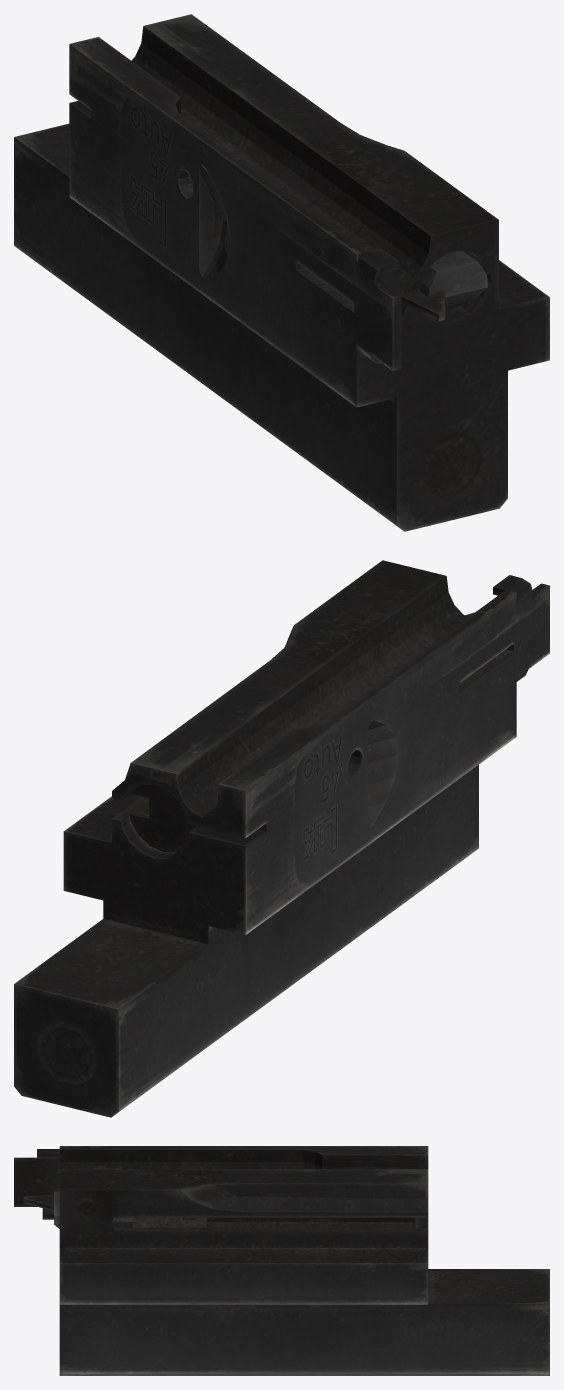
3 views of the same model, one above another, from view 1: azimuth 30°, elevation 25°; view 2: azimuth 150°, elevation 25°; view 3: azimuth 270°, elevation 25° (orthographic). The views are drawn at different scales.
Visible parts, largest first — view 1: TW_5fc3e272f8b6a877a729eac5_PZ_Import; view 2: TW_5fc3e272f8b6a877a729eac5_PZ_Import; view 3: TW_5fc3e272f8b6a877a729eac5_PZ_Import.
Part boxes in pixels (<box>): TW_5fc3e272f8b6a877a729eac5_PZ_Import: <box>14,14,549,531</box>; TW_5fc3e272f8b6a877a729eac5_PZ_Import: <box>14,560,549,1117</box>; TW_5fc3e272f8b6a877a729eac5_PZ_Import: <box>14,1146,549,1375</box>.
Size of the model in its own units: 0.0198 by 0.0743 by 0.0283.
Materials: 1 (1 with a texture image).
